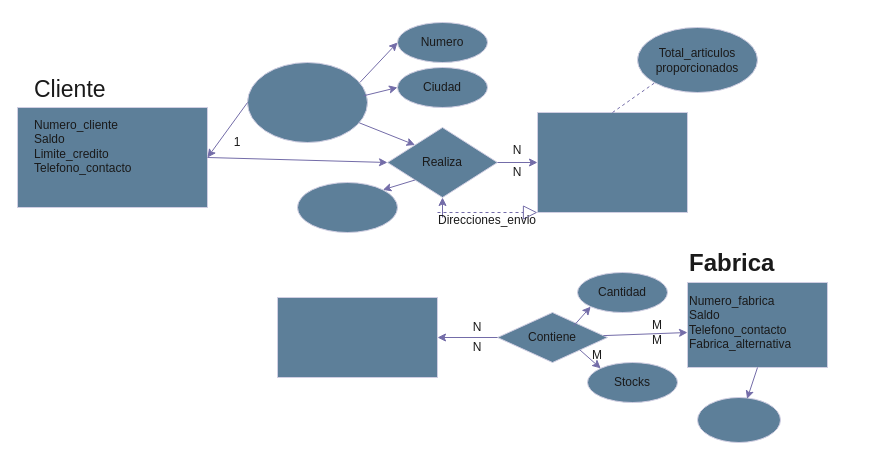
Some shapes in this 885 by 460 pixel diagram are drawn without their labels. Here are the shapes that lost their labels. From the top down, the centre of each, then its label:
At point (307, 102): "Direccion".
At point (612, 162): "Pedido Numero_pedido Fecha_pedido Direccion_Envio".
At point (347, 207): "Calle Vecindario".
At point (357, 337): "Articulo Numero_articulo Descripcion Fabricas Stock".
At point (738, 419): "Suministros".
